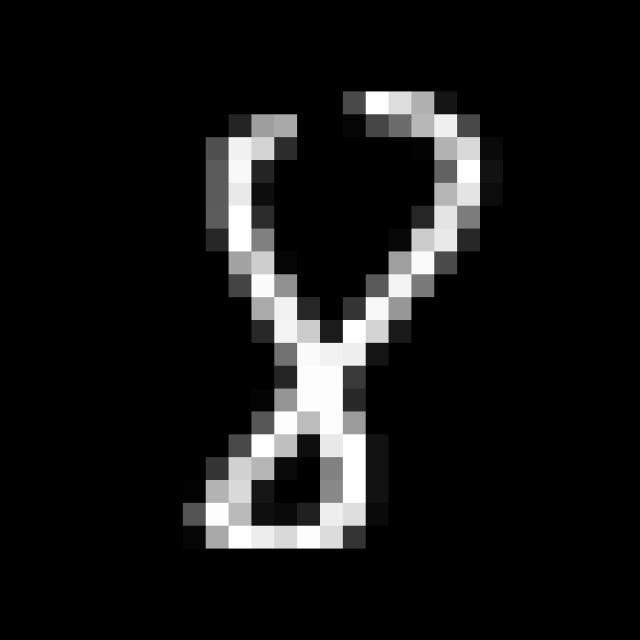eight -8-: (201, 80, 496, 565)
